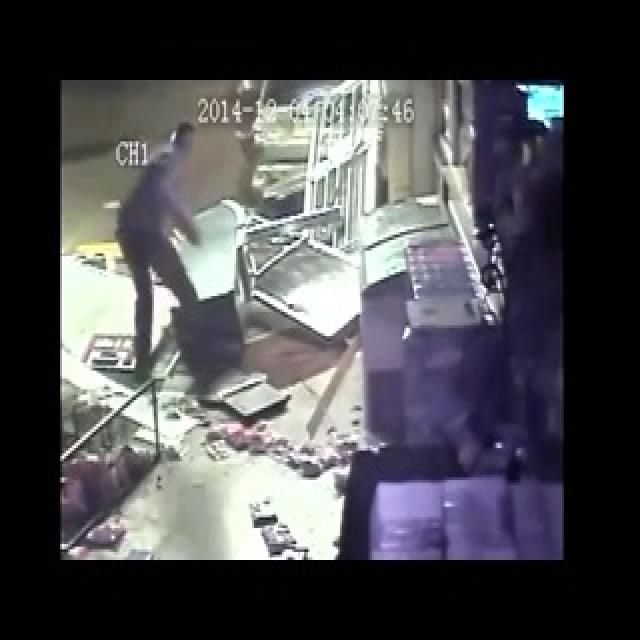thief: (124, 114, 199, 356)
